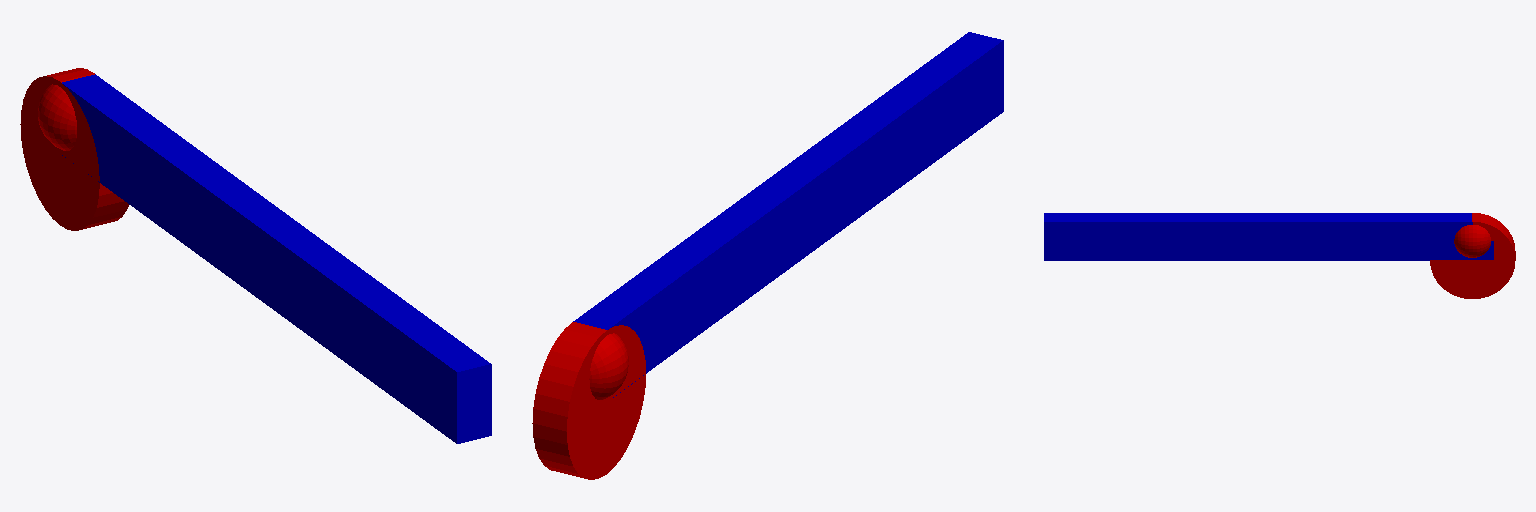
The robot description file, URDF, robot "TwoLinkStruct8070212704":
<?xml version="1.0"?>
<robot  name="TwoLinkStruct8070212704" >
 <material  name="blue" >
  <color  rgba="0 0 0.8 1.0" />
 </material>
 <material  name="red" >
  <color  rgba="0.8 0 0 1.0" />
 </material>
 <link  name="base_link" >
  <visual >
   <origin  rpy="0 1.5707 0"  xyz="0 0 0" />
   <material  name="red" />
   <geometry >
    <cylinder  length="0.05"  radius="0.1" />
   </geometry>
  </visual>
 </link>
 <joint  type="revolute"  name="joint1" >
  <parent  link="base_link" />
  <child  link="link1" />
  <origin  xyz="0 0 0"  rpy="0 0 0" />
  <axis  xyz="1 0 0" />
 </joint>
 <link  name="link1" >
  <inertial >
   <origin  rpy="0 0 0"  xyz="0 0 0.024868086228404872" />
   <mass  value="0.2944089265589572" />
   <inertia  ixy="0.0"  iyy="0.00012267038606623217"  izz="0.00012202481722844195"  ixz="0.0"  ixx="0.00012202481722844195"  iyz="0.0" />
  </inertial>
  <visual >
   <origin  rpy="0 0 0"  xyz="0 0 0.024868086228404872" />
   <material  name="blue" />
   <geometry >
    <box  size="0.05 0.1 0.049736172456809745" />
   </geometry>
  </visual>
 </link>
 <joint  type="fixed"  name="joint-joint-1" >
  <parent  link="link1" />
  <child  link="joint-link-1" />
  <origin  xyz="0 0 0.049736172456809745"  rpy="1.5707 0 0" />
  <axis  xyz="1 0 0" />
 </joint>
 <link  name="joint-link-1" >
  <inertial >
   <origin  rpy="0 0 0"  xyz="0 0 0" />
   <mass  value="5.0" />
   <inertia  ixy="0"  iyy="0"  izz="0"  ixz="0"  ixx="0"  iyz="0" />
  </inertial>
  <visual >
   <origin  rpy="0 0 0"  xyz="0 0 0" />
   <material  name="red" />
   <geometry >
    <sphere  radius="0.05" />
   </geometry>
  </visual>
 </link>
 <joint  type="revolute"  name="joint2" >
  <parent  link="link1" />
  <child  link="link2" />
  <origin  xyz="0 0 0.049736172456809745"  rpy="1.5707 0 0" />
  <axis  xyz="1 0 0" />
 </joint>
 <link  name="link2" >
  <inertial >
   <origin  rpy="0 0 0"  xyz="0 0 0.5" />
   <mass  value="4.247896194458008" />
   <inertia  ixy="0.0"  iyy="0.00012267038606623217"  izz="0.024595412406279545"  ixz="0.0"  ixx="0.024595412406279545"  iyz="0.0" />
  </inertial>
  <visual >
   <origin  rpy="0 0 0"  xyz="0 0 0.5" />
   <material  name="blue" />
   <geometry >
    <box  size="0.05 0.1 1.0" />
   </geometry>
  </visual>
 </link>
 <joint  type="fixed"  name="eef_joint" >
  <parent  link="link2" />
  <child  link="eef" />
  <origin  xyz="0 0 1.0"  rpy="0 0 0" />
 </joint>
 <link  name="eef" >
  <inertial >
   <origin  rpy="0 0 0"  xyz="0 0 0" />
   <mass  value="1" />
   <inertia  ixy="0"  iyy="0"  izz="0"  ixz="0"  ixx="0"  iyz="0" />
  </inertial>
 </link>
 <transmission  name="motor1" >
  <type  xmltext="SimpleTransmission" >
   SimpleTransmission
  </type>
  <actuator  name="motor1" >
   <mechanicalreduction  xmltext="1" >
    1
   </mechanicalreduction>
  </actuator>
  <joint  name="joint1" />
 </transmission>
 <transmission  name="motor2" >
  <type  xmltext="SimpleTransmission" >
   SimpleTransmission
  </type>
  <actuator  name="motor2" >
   <mechanicalreduction  xmltext="1" >
    1
   </mechanicalreduction>
  </actuator>
  <joint  name="joint2" />
 </transmission>
</robot>

<!-- {'carti': array([-0.1 ,  0.14,  0.85]), 'cartd': array([-0.1 ,  0.32,  1.29]), 'tau_mu': 0.6949735060533433, 'b0': 0.9234518360191031, 'Km': 4.969115354773608, 'k_velocity': 37.547540006999576, 'tau_max_m': 4.004973428467376, 'omega_max_m': 9000.0, 'gear_ratio': 8.385608573066202, 'Kp': 55.434794501199605, 'Kd': 89.86000551636788, 'm_m': 5.0, 'l1': 0.049736172456809745, 'l2': 1.0, 'k1': 1000.0, 'k2': 74258263.61257988, 'k3': 370993160.737628}-->

--- Render facts (derived) ---
The picture shows the robot from 3 angles, left to right: view 1: azimuth 30°, elevation 25°; view 2: azimuth 150°, elevation 25°; view 3: azimuth 270°, elevation 25°; orthographic projection.
Robot: TwoLinkStruct8070212704 — 5 links, 4 joints (2 revolute, 2 fixed); root link base_link; default pose: all joints at 0.
Visible links, largest first — view 1: link2, base_link, joint-link-1; view 2: link2, base_link, joint-link-1; view 3: link2, base_link, joint-link-1.
Link boxes in pixels (box(x1,y1,x2,y2)): link2: box(62, 74, 491, 443); base_link: box(20, 68, 128, 230); joint-link-1: box(38, 84, 76, 150); link2: box(573, 32, 1003, 395); base_link: box(532, 322, 645, 479); joint-link-1: box(589, 333, 628, 399); link2: box(1044, 213, 1472, 260); base_link: box(1430, 213, 1515, 298); joint-link-1: box(1454, 225, 1490, 257).
Bounding box of the posed robot: 0.1 × 1.1 × 0.2 m (x, y, z).
Geometry: primitives only (box / cylinder / sphere), no mesh files.
